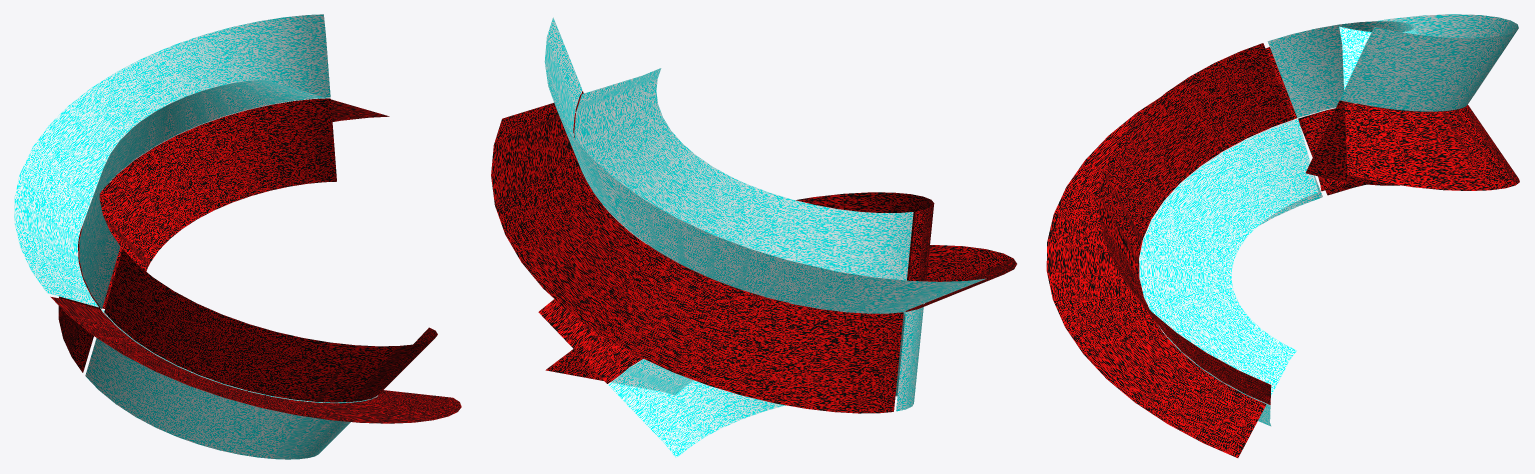
File: SM_Helix_05_Invert_HJS.fbx
3 views of the same model, side by side, from view 1: azimuth 30°, elevation 25°; view 2: azimuth 150°, elevation 25°; view 3: azimuth 270°, elevation 25° (orthographic). The views are drawn at different scales.
Visible parts, largest first — view 1: SM_Helix_05_Invert_HJS; view 2: SM_Helix_05_Invert_HJS; view 3: SM_Helix_05_Invert_HJS.
Boxes of the visible parts, bbox=[...] form: SM_Helix_05_Invert_HJS: bbox=[14, 14, 461, 459]; SM_Helix_05_Invert_HJS: bbox=[491, 17, 1016, 458]; SM_Helix_05_Invert_HJS: bbox=[1046, 14, 1519, 457].
Size of the model in its own units: 700 by 670 by 666.
